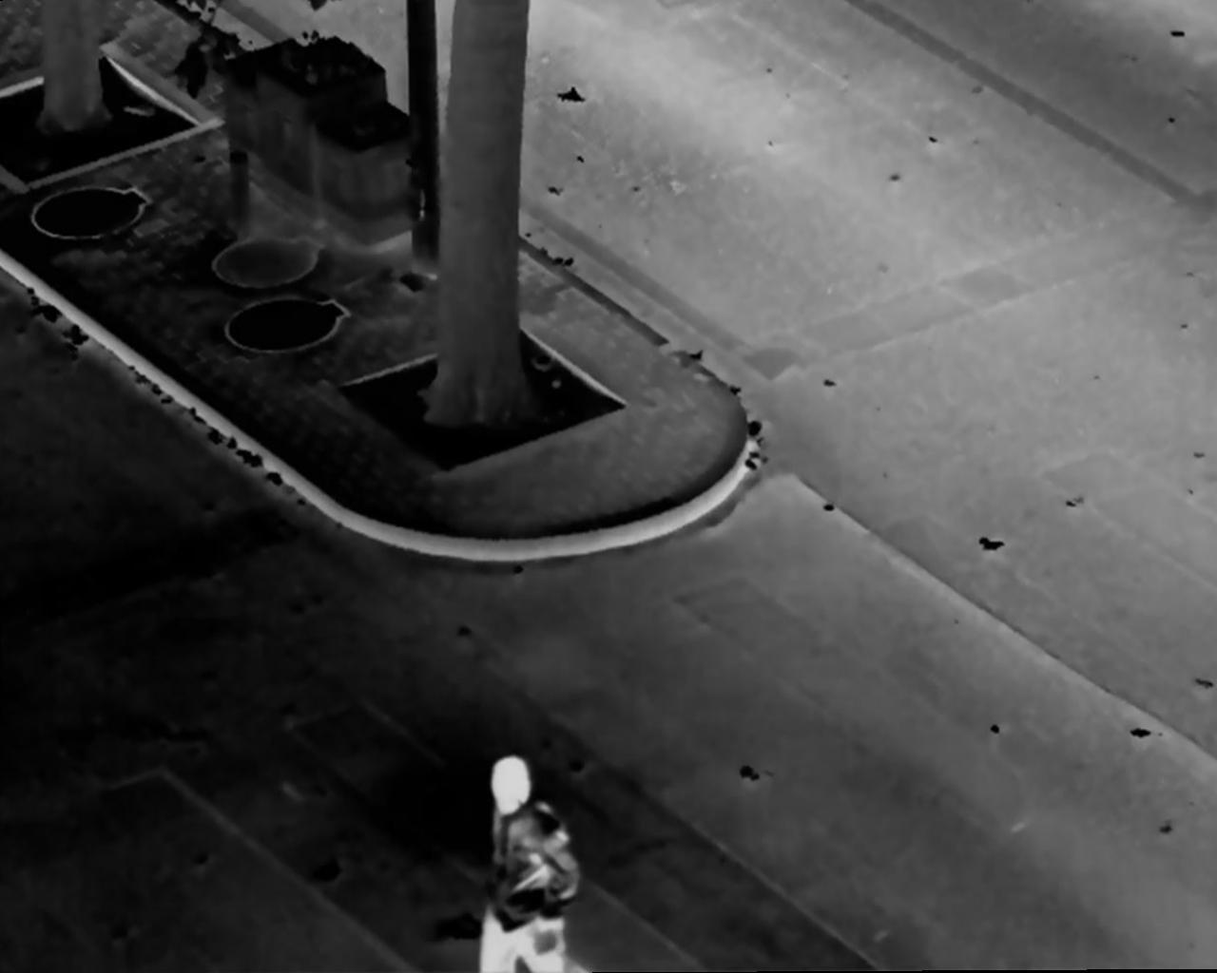person: (475, 753, 588, 973)
